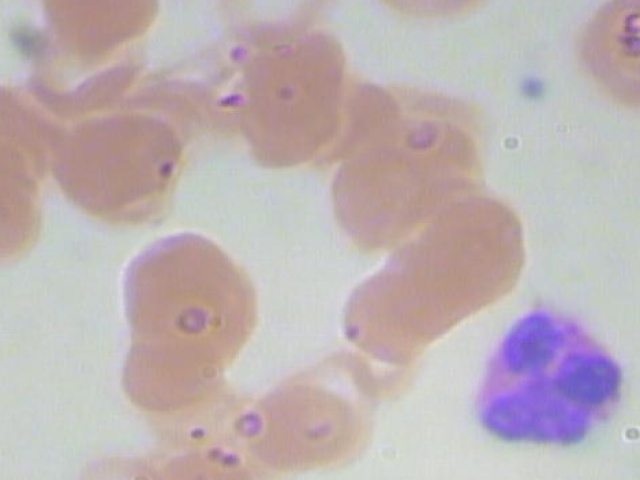Platelets: (509, 65, 560, 108)
RBC: (49, 114, 193, 238), (106, 229, 250, 342), (106, 296, 250, 409), (308, 138, 452, 251), (245, 364, 385, 480), (209, 54, 348, 170), (565, 0, 640, 121), (35, 0, 179, 59), (0, 164, 65, 277), (198, 0, 343, 50)
WBC: (443, 302, 640, 460)
